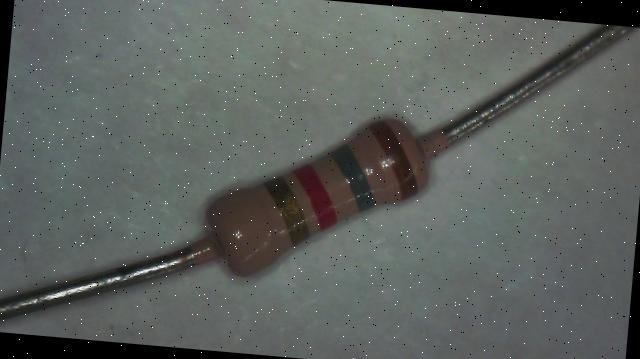brown: (362, 119, 424, 200)
gold: (260, 176, 314, 246)
grey: (326, 143, 380, 213)
red: (290, 164, 341, 230)
resistor: (175, 80, 475, 314)
